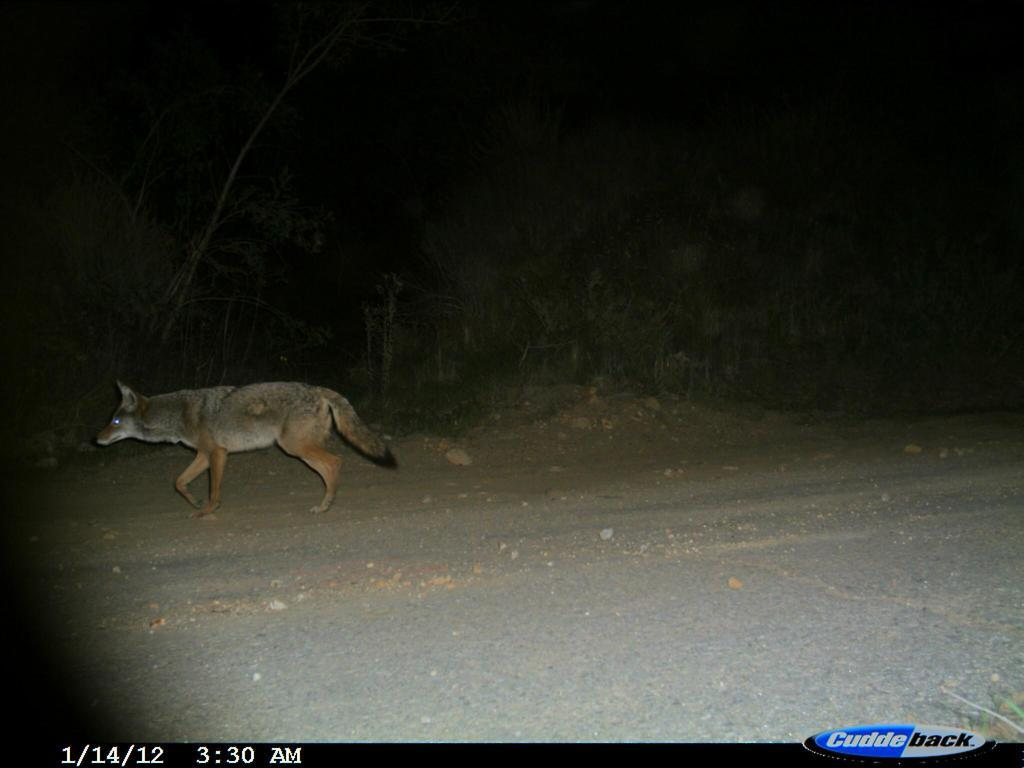coyote: (88, 376, 404, 524)
